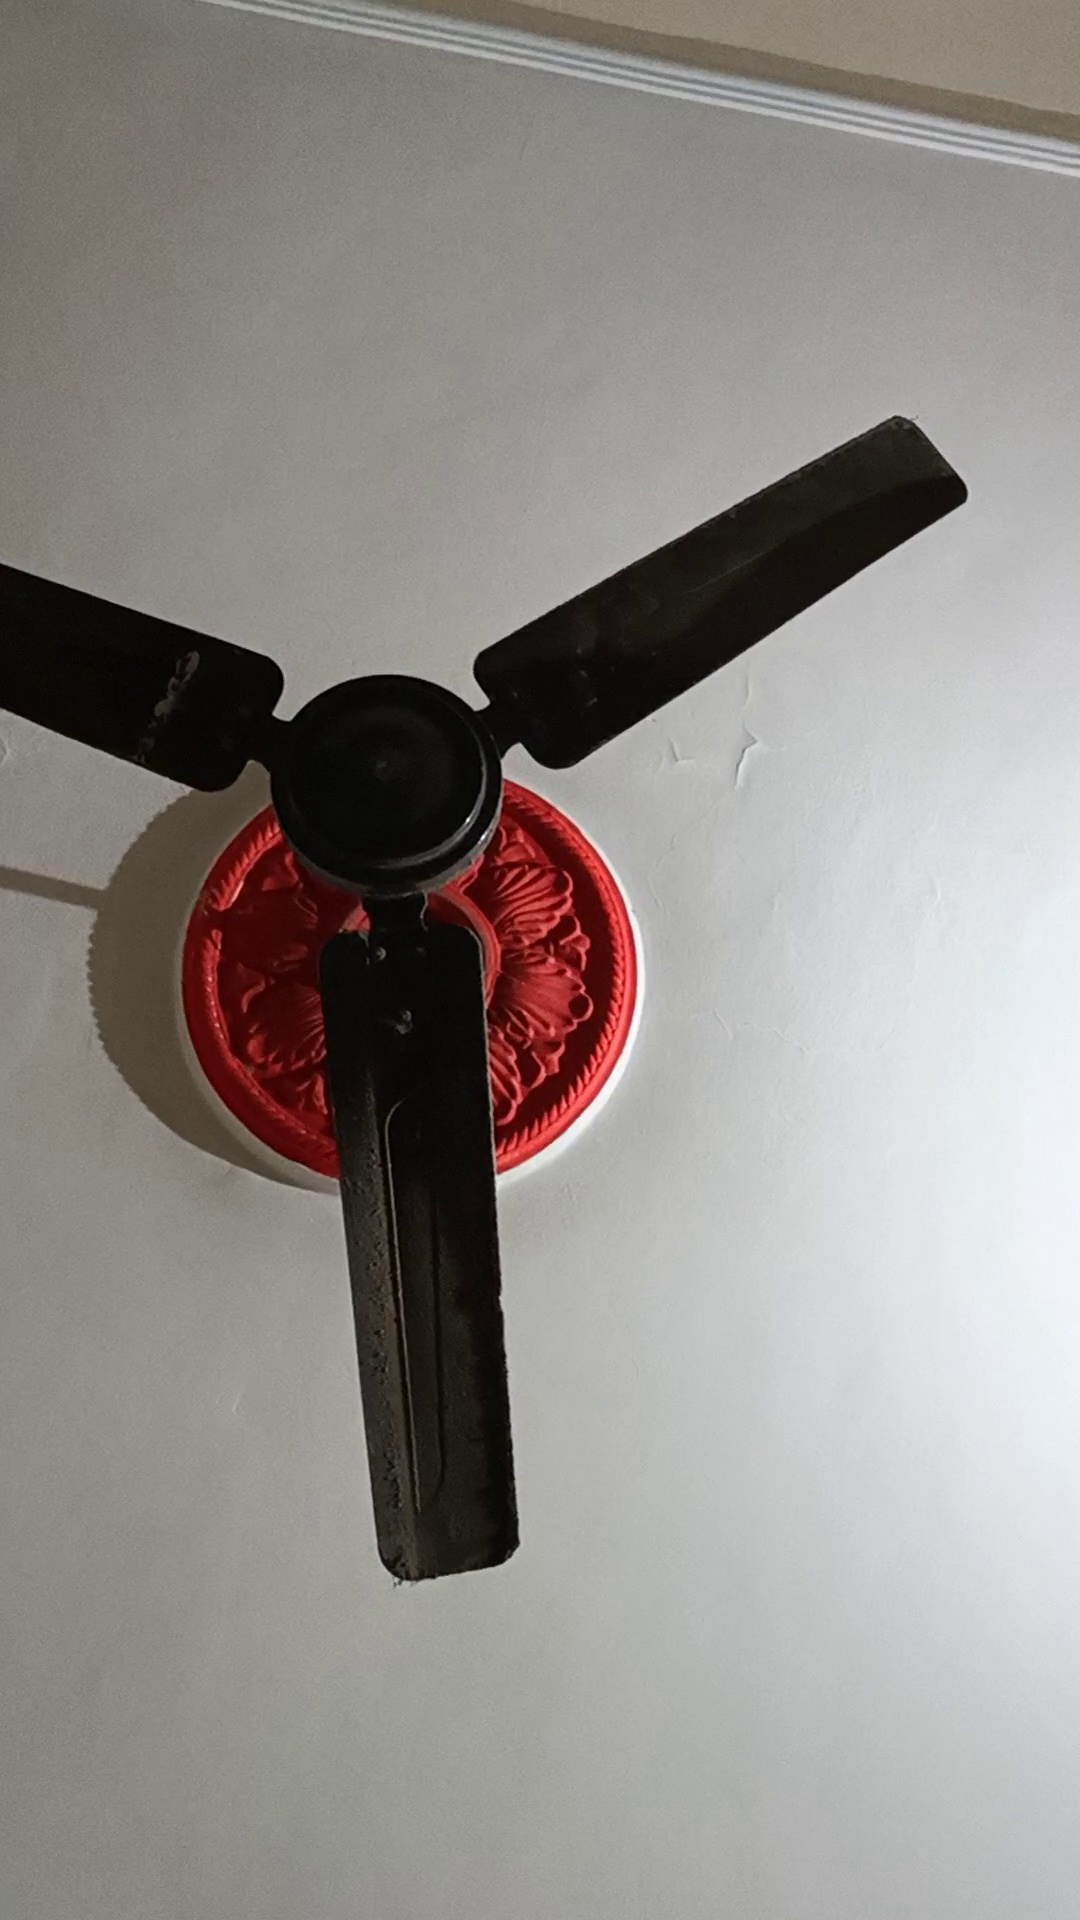fan: (4, 401, 945, 1604)
